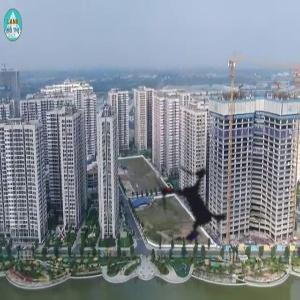drone: (117, 134, 261, 278)
